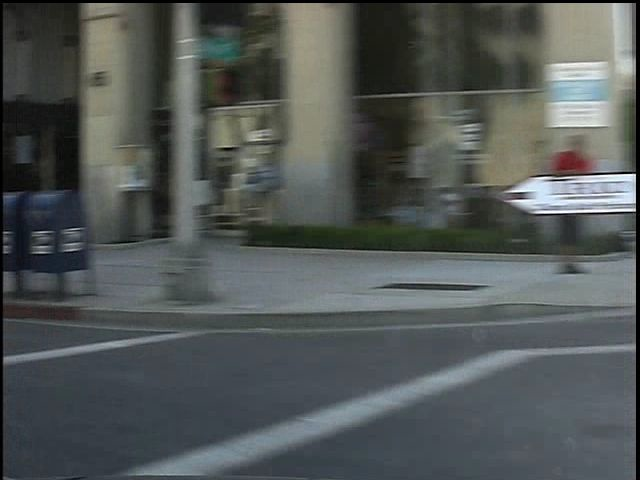person: (531, 124, 575, 282)
